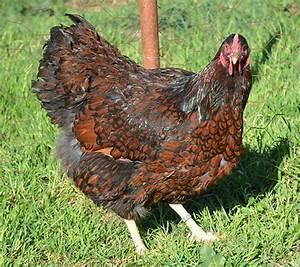hen: (30, 11, 253, 258)
